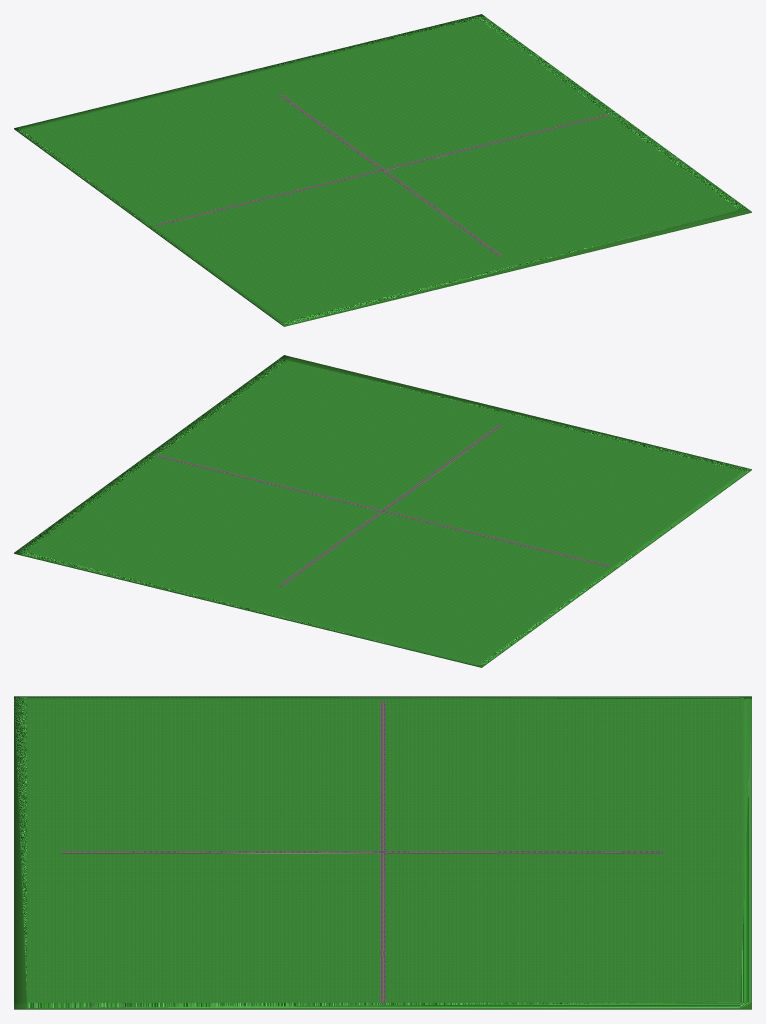
The model's file is map3.obj.
3 renders of one model, top to bottom at view 1: azimuth 30°, elevation 25°; view 2: azimuth 150°, elevation 25°; view 3: azimuth 270°, elevation 25°, orthographic. The views are drawn at different scales.
Visible parts, largest first — view 1: Cube.002, Cube.003; view 2: Cube.002, Cube.003; view 3: Cube.002, Cube.003.
Boxes of the visible parts, x1,y1,x2,y2 form: Cube.002: (14, 14, 751, 326); Cube.003: (156, 94, 610, 256); Cube.002: (14, 355, 751, 667); Cube.003: (155, 424, 609, 586); Cube.002: (14, 696, 751, 1009); Cube.003: (61, 701, 663, 1003).
Size of the model in its own units: 500 by 1.1 by 500.
